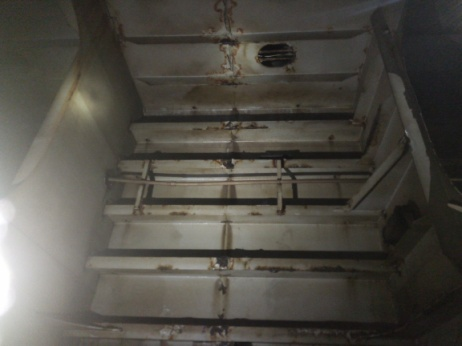corrosion: (204, 278, 239, 319), (209, 0, 243, 32), (216, 39, 248, 72), (213, 216, 241, 251), (304, 260, 351, 279), (216, 120, 269, 135), (208, 321, 240, 342), (208, 255, 238, 276), (254, 265, 300, 278), (218, 178, 241, 199), (225, 131, 247, 150), (164, 208, 193, 222), (216, 160, 238, 175), (153, 266, 179, 274), (228, 101, 240, 115)
